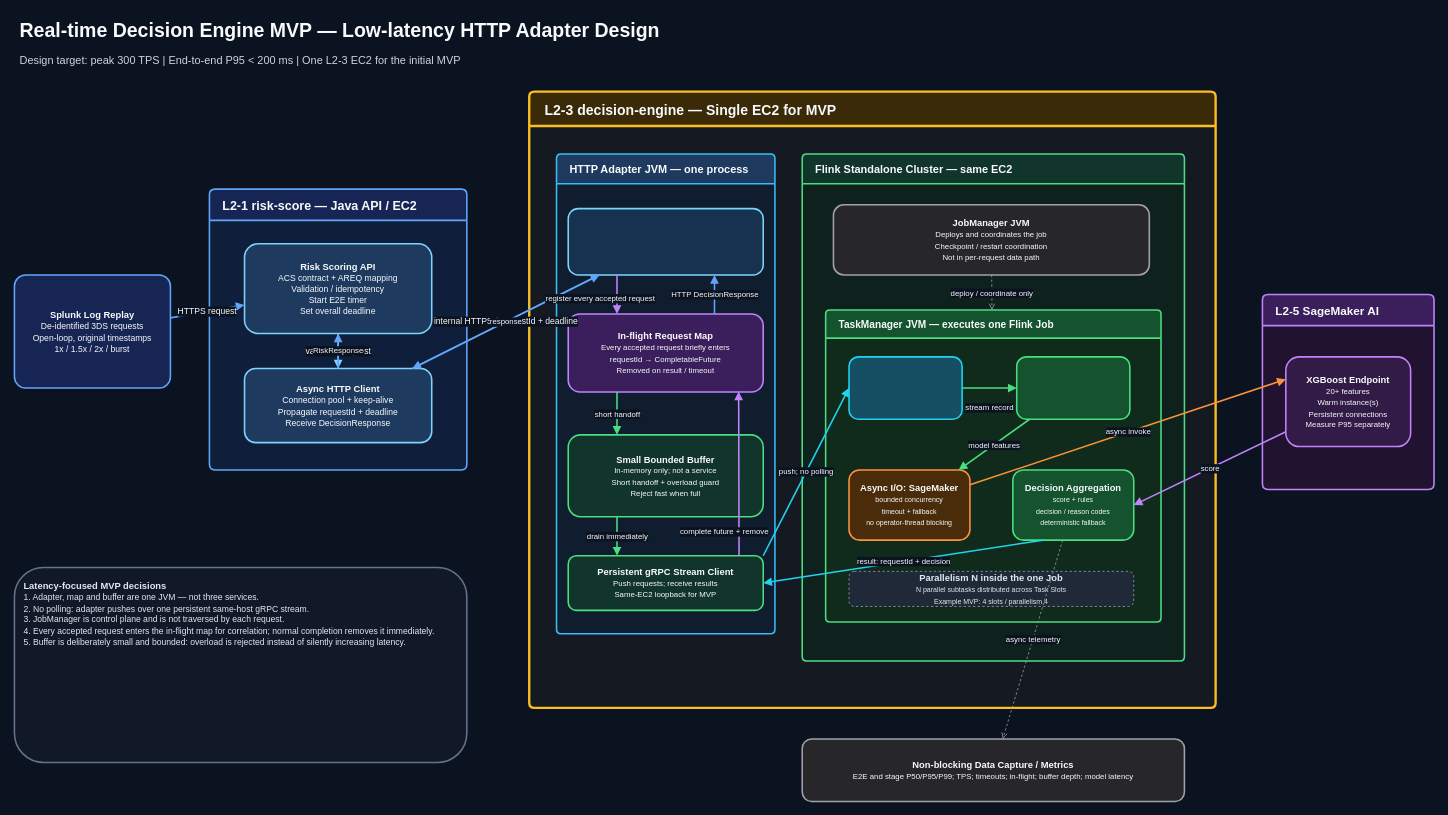
The diagram is 1448 pixels wide and 815 high, and some of its shapes have lost their labels. The shapes that lost their labels are listed below. From the top down, each one's centre as x and y in pixels, then its label:
At point 665,241: "POST /decision Non-blocking HTTP server Validate requestId / deadline".
At point 905,388: "Custom Source Gateway Persistent gRPC server push into SourceReader".
At point 1073,388: "Keyed Rules + State keyBy(cardId) rule evaluation reason codes".
